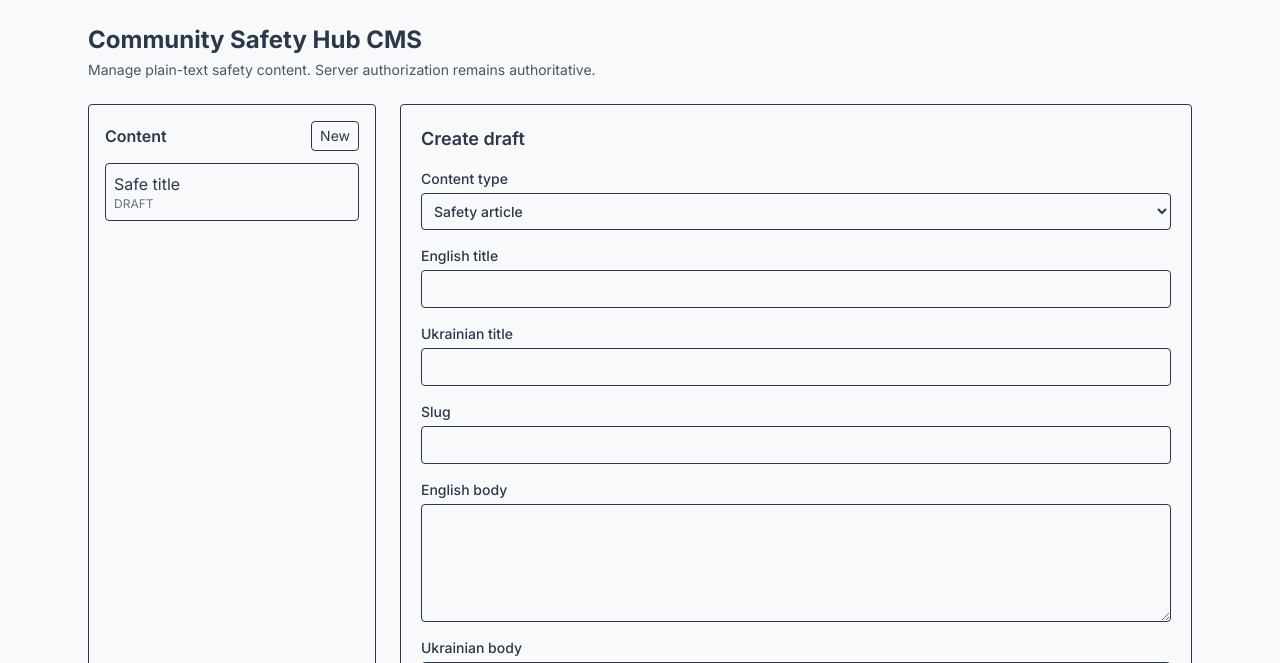
Test: CommunityAdminPage › loads every lifecycle item, permits selection, and publishes plain text content
Click the button "Safe title DRAFT": click(232, 192) [105,163,359,221]
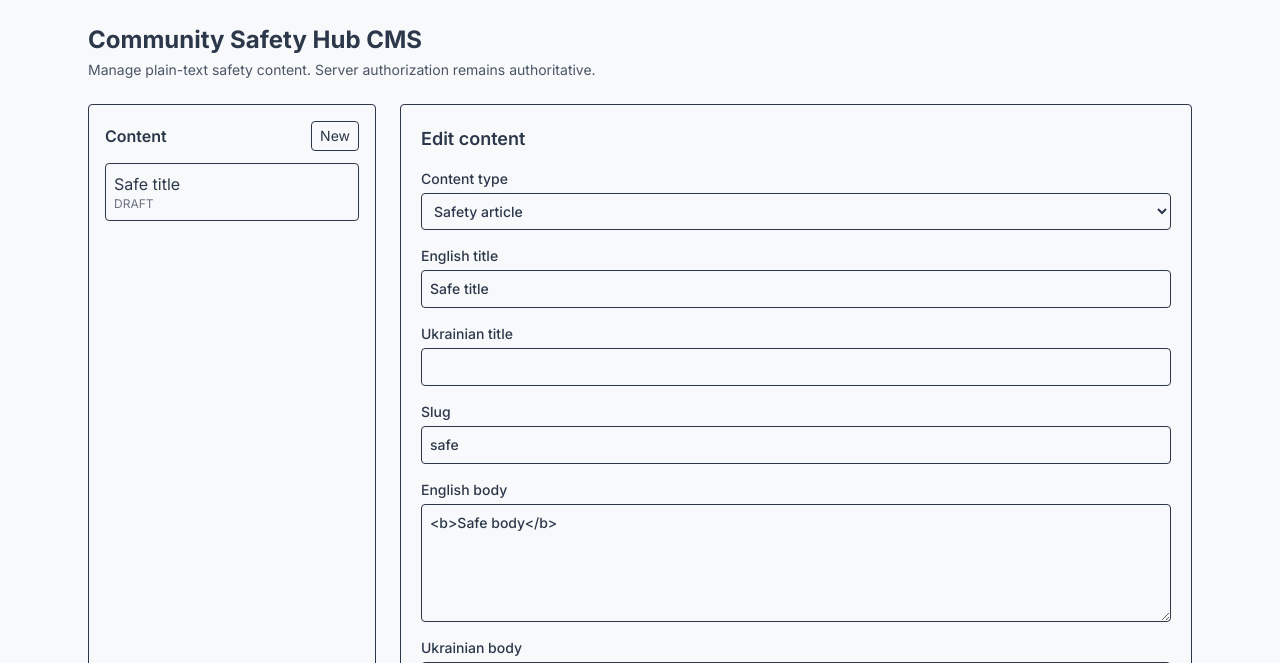
Check: the text box showing "<b>Safe body</b>" is shown, box [421,504,1171,622]
